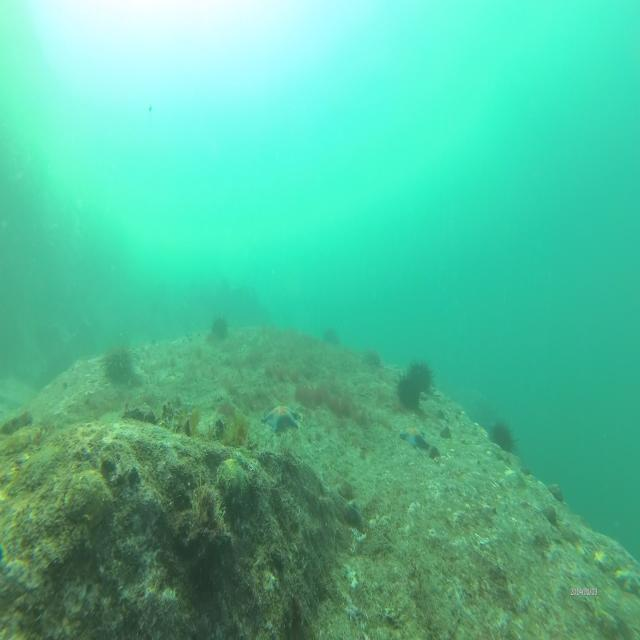echinus: (99, 343, 136, 387), (486, 419, 520, 459), (405, 354, 435, 397), (392, 369, 421, 413), (208, 313, 232, 343), (322, 321, 342, 352), (364, 342, 383, 368)
starfish: (261, 397, 297, 437), (399, 425, 431, 454)
